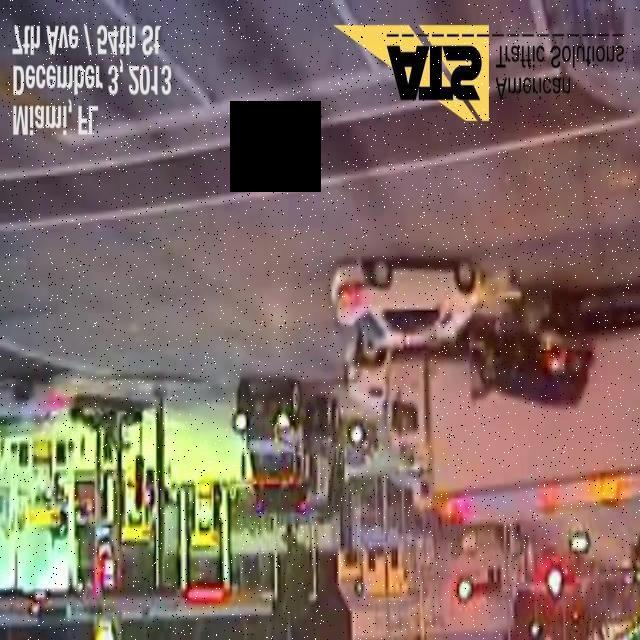severe: (343, 293, 640, 531)
